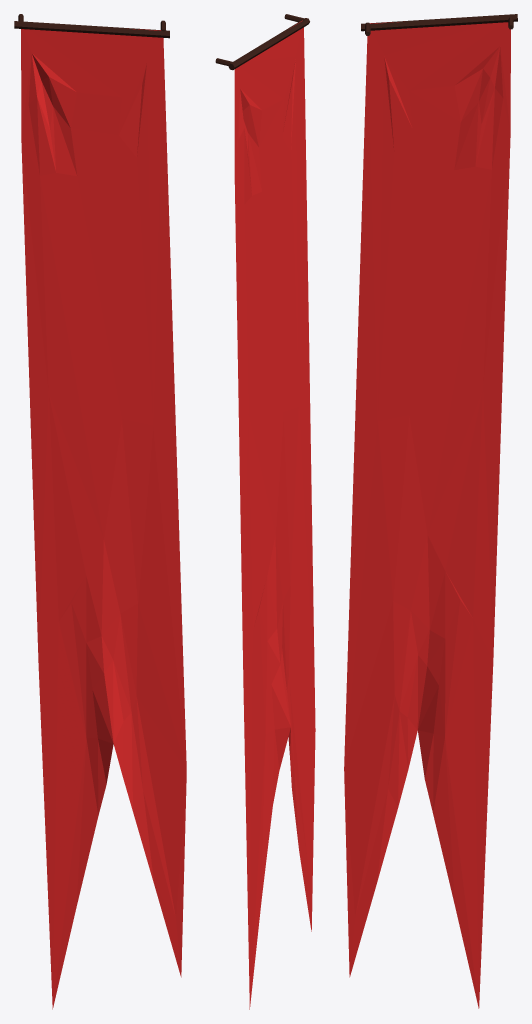
The model's file is banner.FBX.
3 views of the same model, side by side, from view 1: azimuth 90°, elevation 25°; view 2: azimuth 150°, elevation 25°; view 3: azimuth 270°, elevation 25° (orthographic). The views are drawn at different scales.
Visible parts, largest first — view 1: banner; view 2: banner; view 3: banner.
Part boxes in pixels (box(x1,y1,x2,y2)): banner: box(14, 14, 186, 1009); banner: box(215, 14, 315, 1009); banner: box(344, 14, 517, 1008).
Size of the model in its own units: 138 by 4321 by 684.
